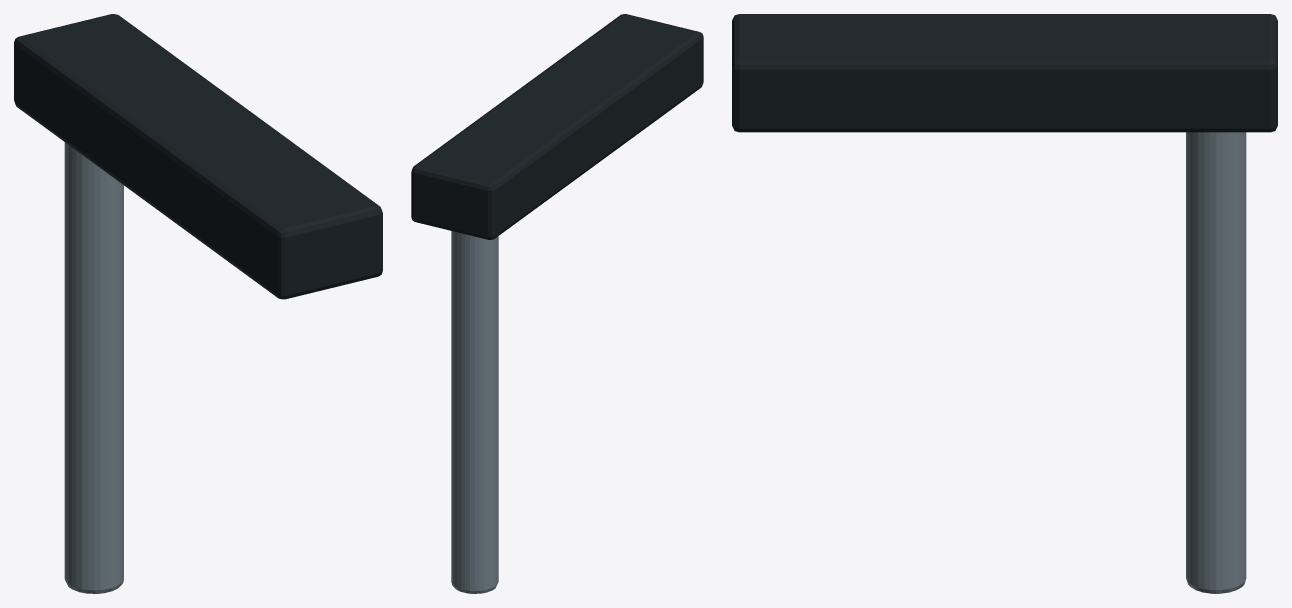
File: SM_Lab_Chair__Armrest_1.fbx
3 views of the same model, side by side, from view 1: azimuth 30°, elevation 25°; view 2: azimuth 150°, elevation 25°; view 3: azimuth 270°, elevation 25° (orthographic). The views are drawn at different scales.
Visible parts, largest first — view 1: SM_Lab_Chair__Armrest_1; view 2: SM_Lab_Chair__Armrest_1; view 3: SM_Lab_Chair__Armrest_1.
Boxes of the visible parts, <box> form: SM_Lab_Chair__Armrest_1: <box>14,14,382,593</box>; SM_Lab_Chair__Armrest_1: <box>411,14,703,593</box>; SM_Lab_Chair__Armrest_1: <box>732,14,1277,593</box>.
Size of the model in its own units: 7 by 31 by 34.25.
